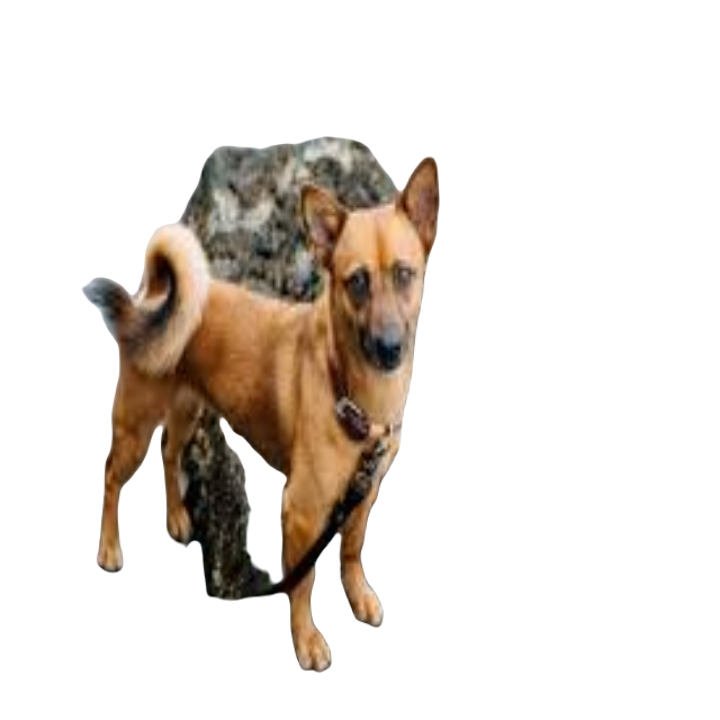Dog: (74, 146, 443, 670)
